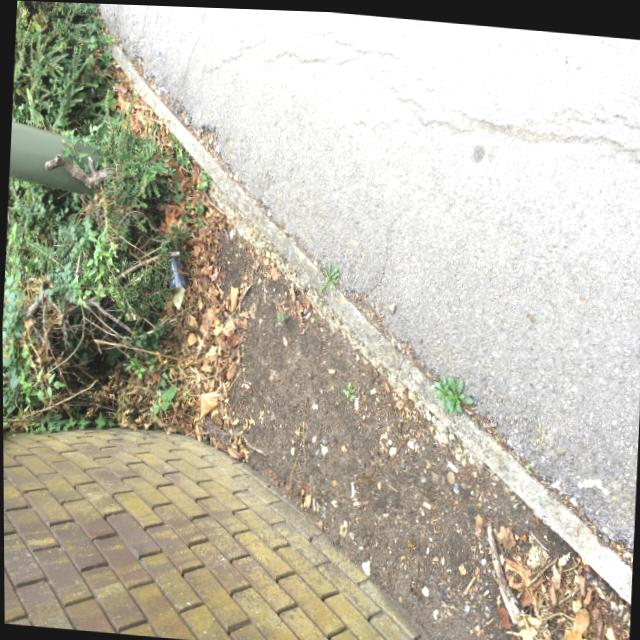Plastic: (163, 248, 188, 291)
